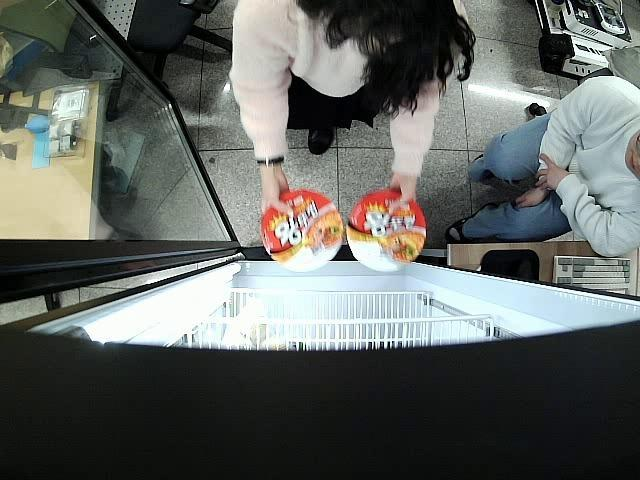10_wangTtukkeong: (262, 190, 344, 273), (348, 188, 426, 274)
